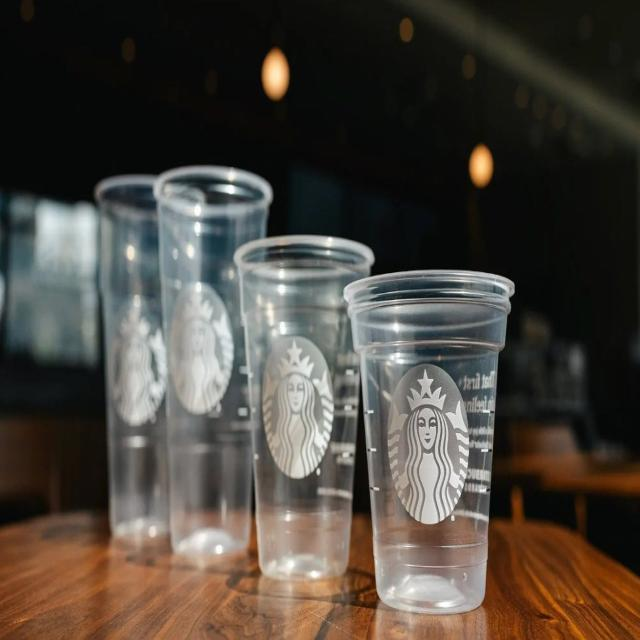starbucks: (385, 362, 471, 525), (258, 334, 338, 476), (168, 280, 234, 411)
